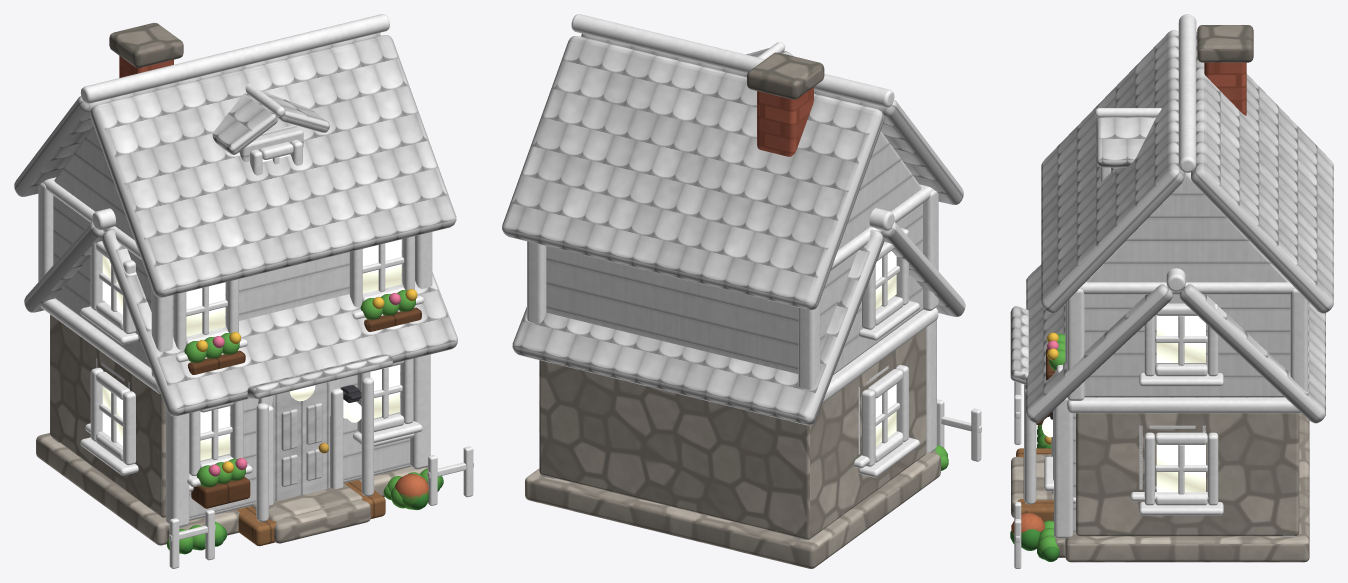
Rendered from villager_houses.glb.
3 views of the same model, side by side, from view 1: azimuth 30°, elevation 25°; view 2: azimuth 150°, elevation 25°; view 3: azimuth 270°, elevation 25° (orthographic). The views are drawn at different scales.
Parts seen in each view (by area): view 1: vhouse_2_vroof, vhouse_2_vtrim, vhouse_1_vroof, vhouse_2_stone, vhouse_2_vwall, vhouse_1_vtrim, vhouse_1_vdoor, vhouse_1_vwall, vhouse_2_glass, vhouse_1_stone, vhouse_2_trim, vhouse_2_leaf (+7 smaller); view 2: vhouse_2_vroof, vhouse_2_stone, vhouse_2_vwall, vhouse_1_vroof, vhouse_2_vtrim, vhouse_2_brick, vhouse_2_stone_dark, vhouse_1_vtrim, vhouse_2_glass, vhouse_2_trim; view 3: vhouse_2_vroof, vhouse_2_stone, vhouse_2_vtrim, vhouse_2_vwall, vhouse_1_vroof, vhouse_1_vtrim, vhouse_2_glass, vhouse_2_stone_dark, vhouse_2_brick, vhouse_2_trim, vhouse_2_leaf, vhouse_1_stone (+3 smaller).
Part boxes in pixels (box(x1,y1,x2,y2)): vhouse_2_vroof: box(14, 33, 456, 398); vhouse_2_vtrim: box(38, 14, 432, 521); vhouse_1_vroof: box(24, 221, 457, 416); vhouse_2_stone: box(36, 314, 411, 545); vhouse_2_vwall: box(53, 125, 402, 368); vhouse_1_vtrim: box(52, 208, 430, 527); vhouse_1_vdoor: box(272, 382, 330, 501); vhouse_1_vwall: box(189, 364, 410, 520); vhouse_2_glass: box(102, 154, 401, 445); vhouse_1_stone: box(167, 467, 427, 543); vhouse_2_trim: box(169, 446, 473, 568); vhouse_2_leaf: box(167, 290, 441, 553); vhouse_2_vroof: box(502, 33, 963, 310); vhouse_2_stone: box(525, 328, 940, 568); vhouse_2_vwall: box(546, 131, 923, 374); vhouse_1_vroof: box(512, 221, 965, 425); vhouse_2_vtrim: box(527, 14, 938, 477); vhouse_2_brick: box(757, 87, 813, 156); vhouse_2_stone_dark: box(747, 52, 824, 99); vhouse_1_vtrim: box(541, 208, 936, 540); vhouse_2_glass: box(875, 251, 896, 445); vhouse_2_trim: box(937, 399, 981, 461); vhouse_2_vroof: box(1010, 30, 1333, 384); vhouse_2_stone: box(1023, 413, 1309, 562); vhouse_2_vtrim: box(1024, 14, 1307, 515); vhouse_2_vwall: box(1084, 167, 1290, 397); vhouse_1_vroof: box(1026, 264, 1325, 423); vhouse_1_vtrim: box(1044, 268, 1297, 538); vhouse_2_glass: box(1156, 315, 1205, 492); vhouse_2_stone_dark: box(1197, 25, 1253, 62); vhouse_2_brick: box(1204, 62, 1246, 115); vhouse_2_trim: box(1014, 381, 1021, 568); vhouse_2_leaf: box(1037, 333, 1065, 554); vhouse_1_stone: box(1011, 456, 1065, 557).
Bounding box in the file's own units: 1.96 × 2.71 × 1.84.
Materials: 20 (11 with a texture image).
